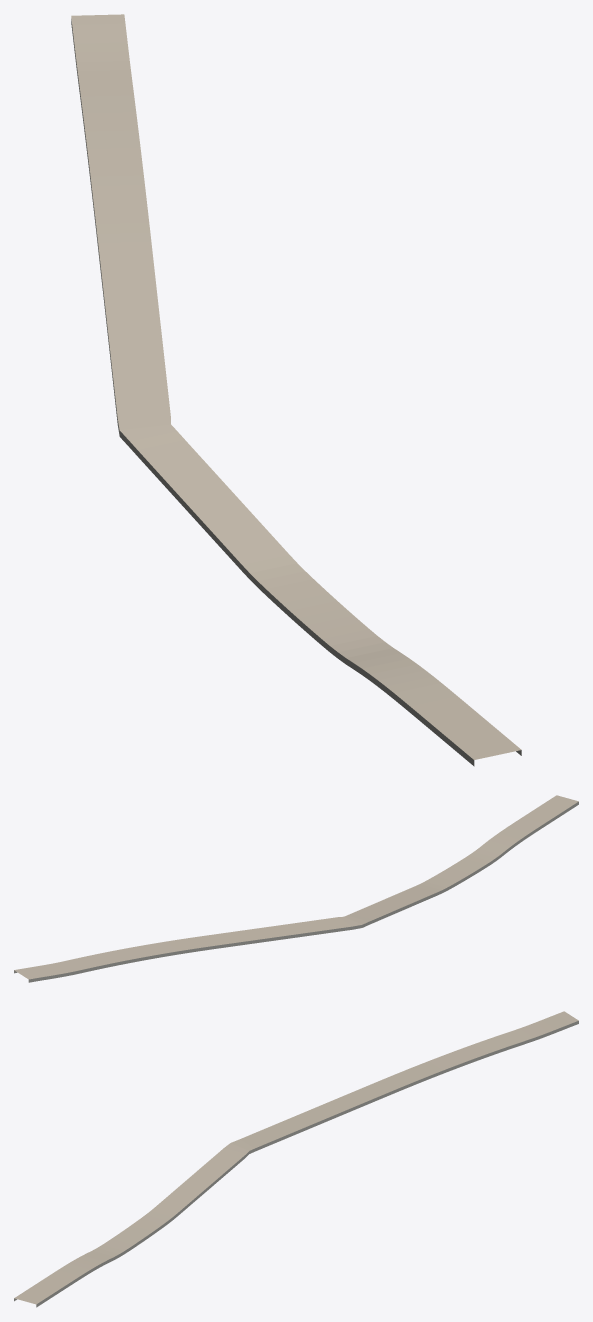
Rendered from SM_Road_to_heliport.fbx.
3 views of the same model, one above another, from view 1: azimuth 30°, elevation 25°; view 2: azimuth 150°, elevation 25°; view 3: azimuth 330°, elevation 25° (orthographic). The views are drawn at different scales.
Parts seen in each view (by area): view 1: SM_Road_to_heliport; view 2: SM_Road_to_heliport; view 3: SM_Road_to_heliport.
Boxes of the visible parts, x1,y1,x2,y2 form: SM_Road_to_heliport: (71,14,521,766); SM_Road_to_heliport: (14,795,578,982); SM_Road_to_heliport: (14,1011,578,1307).
Size of the model in its own units: 50.68 by 15.17 by 170.
